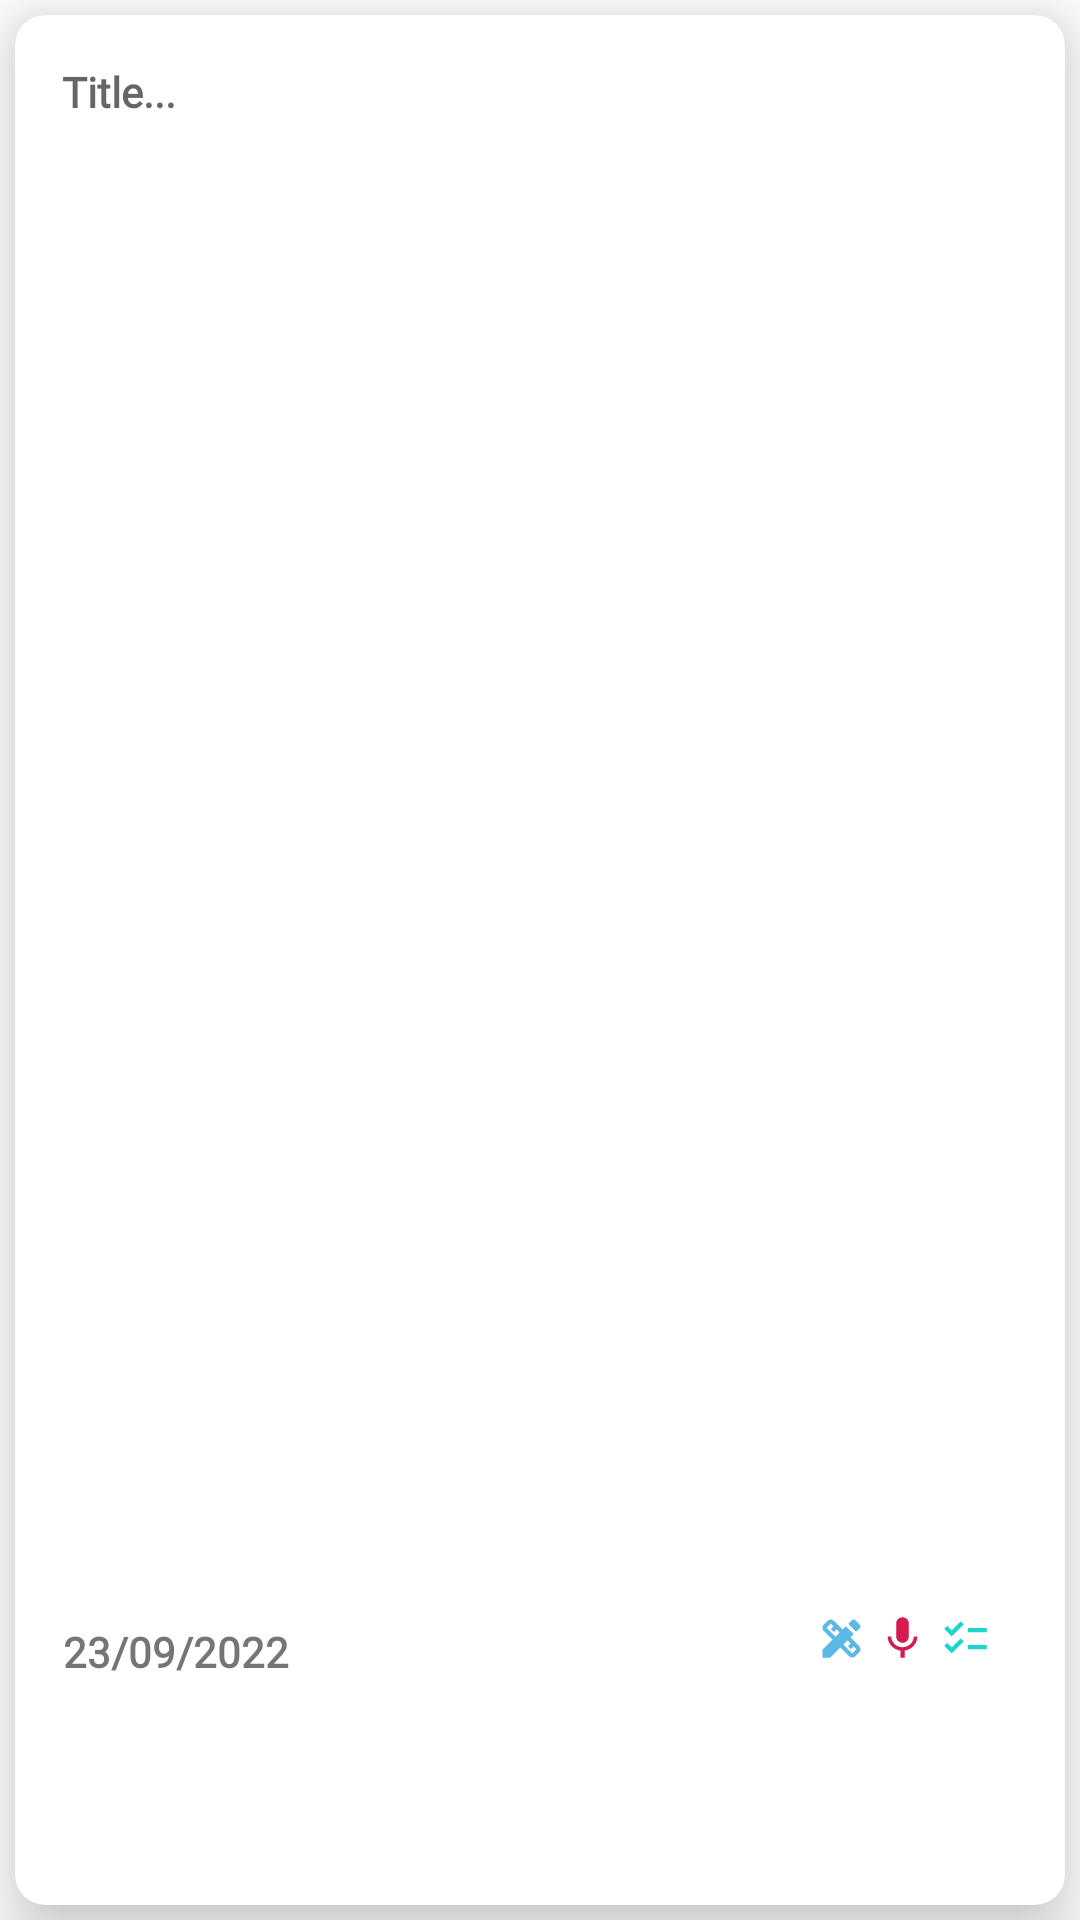

Named icons in this screenshot (1080px x 1920px) and their centers, [x,y]:
checklist: [965,1637]
design services: [841,1638]
mic: [902,1637]
